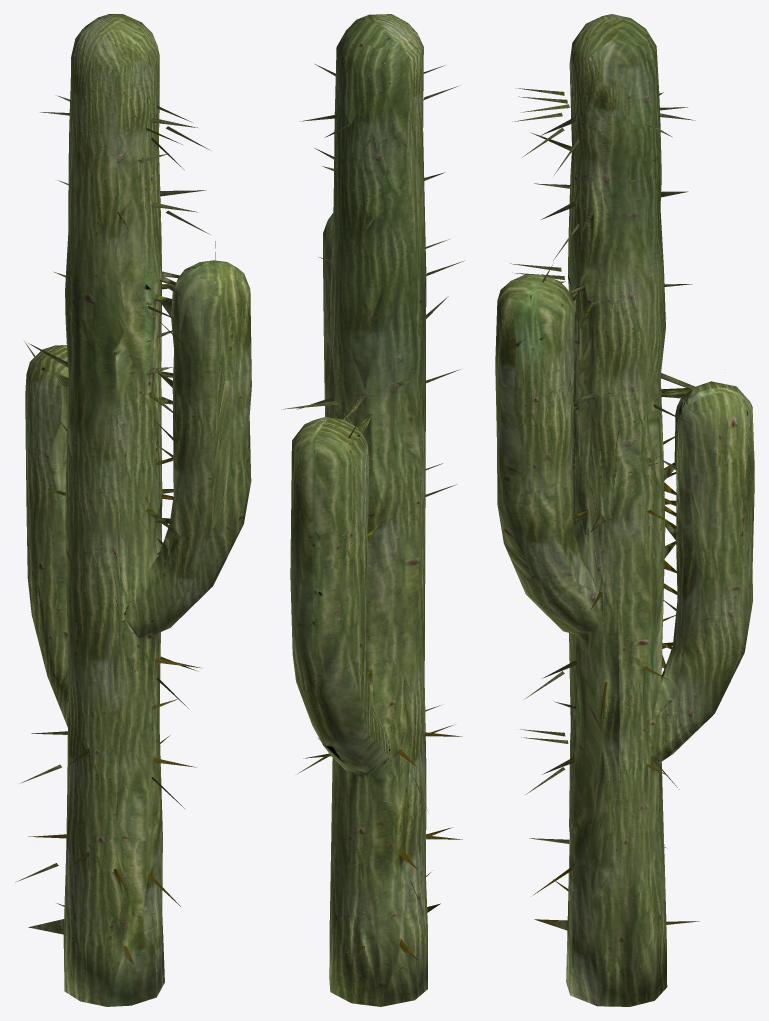
Rendered from Cactus.obj.
3 views of the same model, side by side, from view 1: azimuth 30°, elevation 25°; view 2: azimuth 150°, elevation 25°; view 3: azimuth 270°, elevation 25° (orthographic).
Parts seen in each view (by area): view 1: Cactus_1; view 2: Cactus_1; view 3: Cactus_1.
Boxes of the visible parts, x1,y1,x2,y2 form: Cactus_1: [15, 14, 251, 1006]; Cactus_1: [281, 14, 464, 1006]; Cactus_1: [495, 14, 754, 1006].
Bounding box in the file's own units: 8.21 × 45.91 × 11.15.
1 material, 1 textured.
